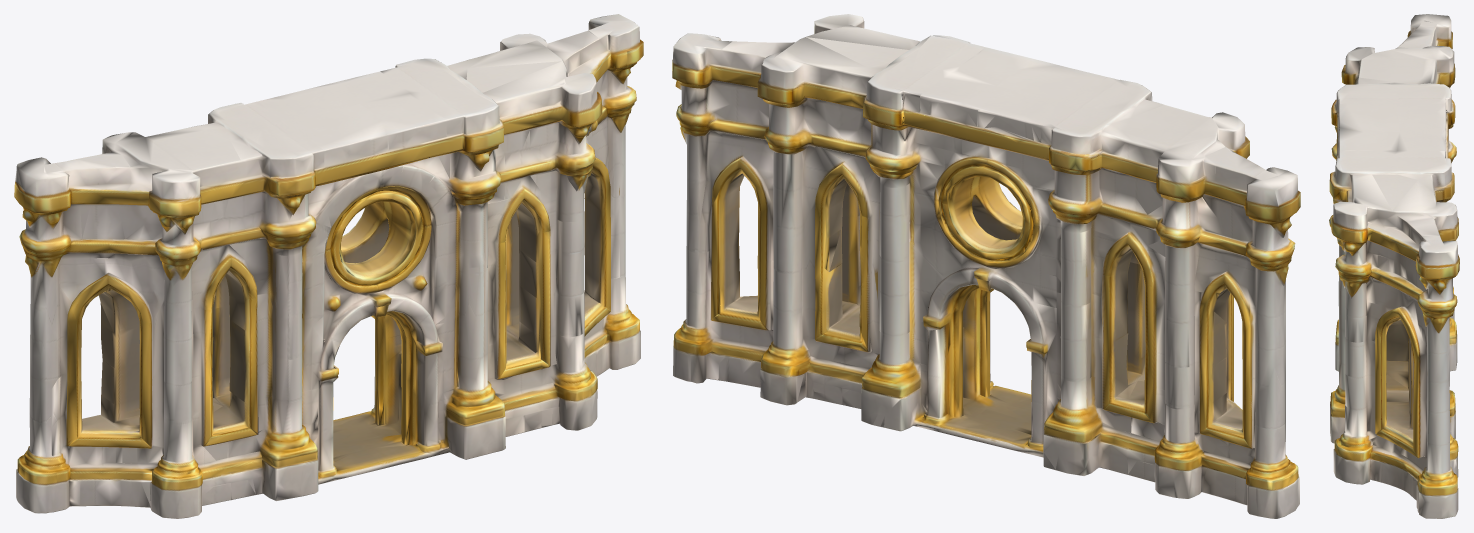
The model's file is HaloPart_CathBody_HD_LOD.glb.
The picture shows the model from 3 angles, left to right: view 1: azimuth 30°, elevation 25°; view 2: azimuth 150°, elevation 25°; view 3: azimuth 270°, elevation 25°; orthographic projection. The views are drawn at different scales.
Visible parts, largest first — view 1: tripo_node_4a4a44ae-d137-457e-8de2-38d43e645ed6; view 2: tripo_node_4a4a44ae-d137-457e-8de2-38d43e645ed6; view 3: tripo_node_4a4a44ae-d137-457e-8de2-38d43e645ed6.
Boxes of the visible parts, x1,y1,x2,y2 form: tripo_node_4a4a44ae-d137-457e-8de2-38d43e645ed6: [14, 14, 643, 518]; tripo_node_4a4a44ae-d137-457e-8de2-38d43e645ed6: [672, 14, 1300, 518]; tripo_node_4a4a44ae-d137-457e-8de2-38d43e645ed6: [1329, 14, 1459, 518].
Size of the model in its own units: 0.9792 by 0.5137 by 0.2246.
Materials: 1 (1 with a texture image).
